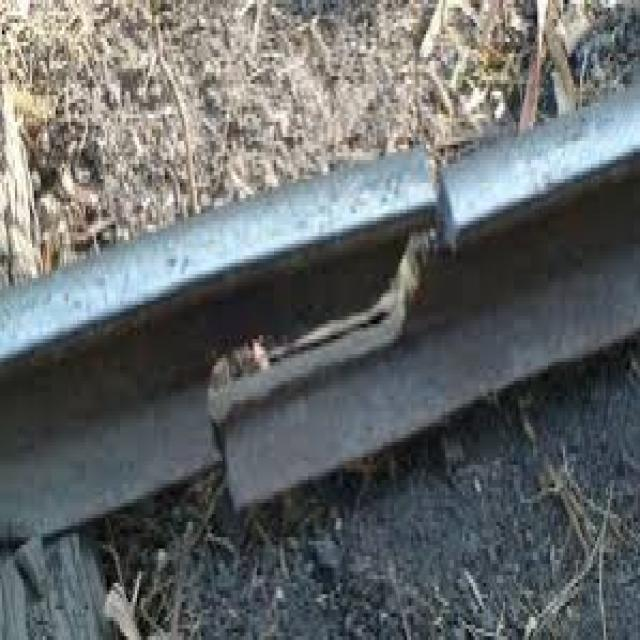fault: (190, 363, 254, 531), (414, 136, 465, 293)
